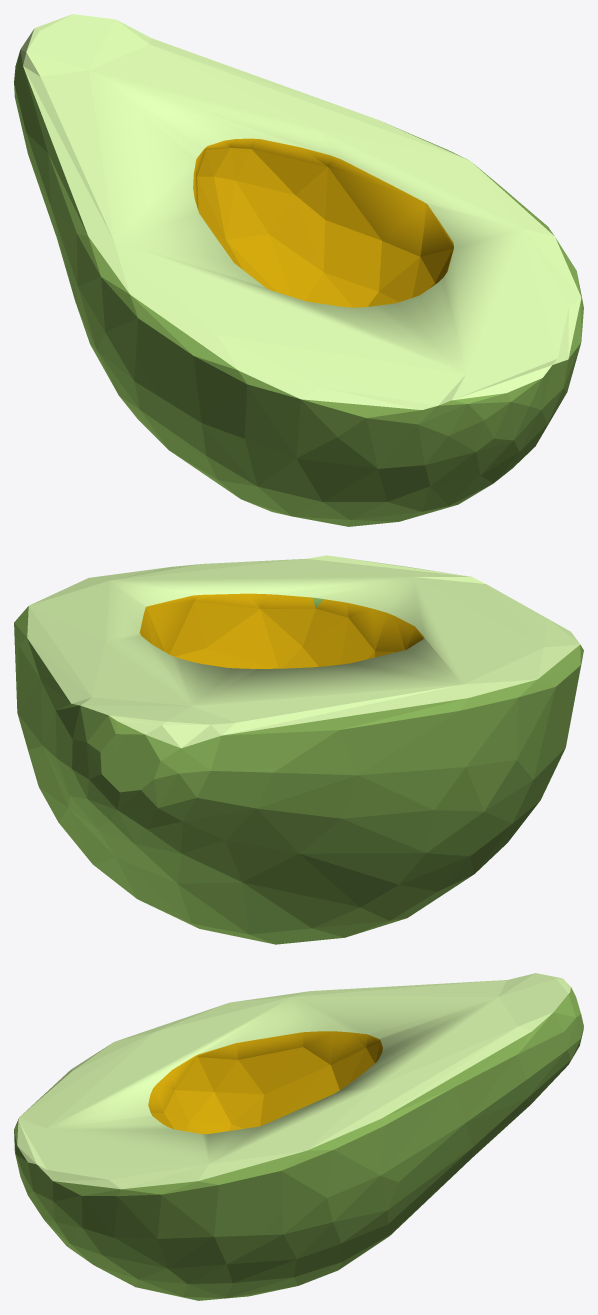
The model's file is avakodaPie2.fbx.
3 renders of one model, top to bottom at view 1: azimuth 30°, elevation 25°; view 2: azimuth 150°, elevation 25°; view 3: azimuth 270°, elevation 25°, orthographic. The views are drawn at different scales.
Parts seen in each view (by area): view 1: Avokado.002; view 2: Avokado.002; view 3: Avokado.002.
Boxes of the visible parts, box(x1,y1,x2,y2) form: Avokado.002: box(14, 14, 583, 526); Avokado.002: box(14, 555, 583, 944); Avokado.002: box(14, 973, 583, 1300).
Bounding box in the file's own units: 0.0049 × 0.00379 × 0.00726.
